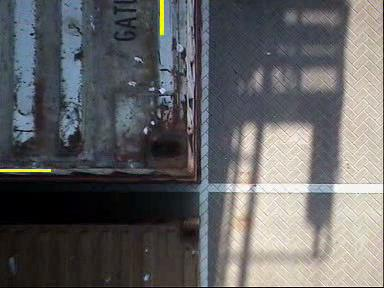groundmarker_2: (192, 164, 239, 229), (192, 1, 224, 47)
